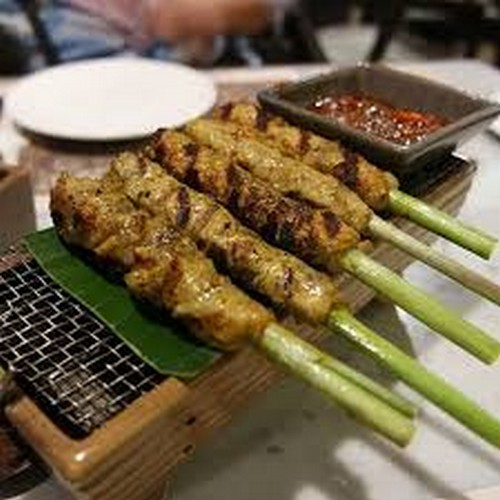sate lilit: (134, 187, 491, 350)
